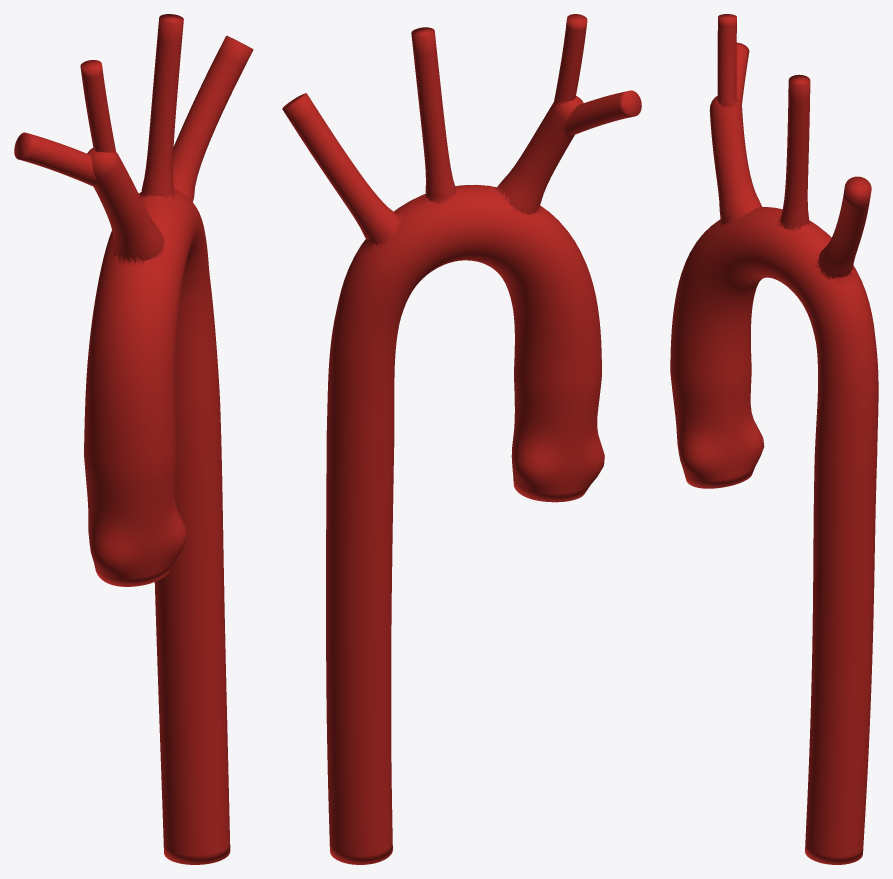
Rendered from aortic_arch.light.glb.
3 views of the same model, side by side, from view 1: azimuth 30°, elevation 25°; view 2: azimuth 150°, elevation 25°; view 3: azimuth 270°, elevation 25° (orthographic). The views are drawn at different scales.
Parts seen in each view (by area): view 1: aortic_lumen; view 2: aortic_lumen; view 3: aortic_lumen.
Part boxes in pixels (bbox=[...]): aortic_lumen: bbox=[14, 14, 253, 864]; aortic_lumen: bbox=[282, 14, 641, 864]; aortic_lumen: bbox=[670, 14, 878, 864].
Size of the model in its own units: 0.113 by 0.3113 by 0.0766.
